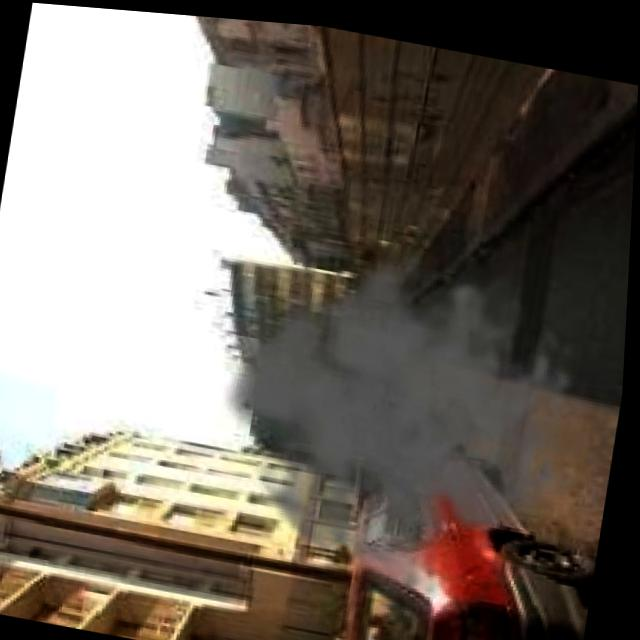no_helmet: (202, 199, 615, 624)
